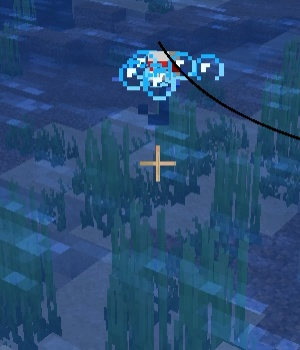up: (131, 48, 182, 126)
